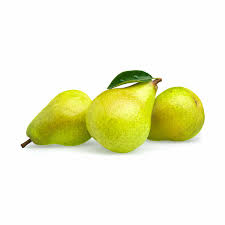pear: (83, 77, 161, 156), (24, 89, 90, 153), (144, 89, 204, 150)
